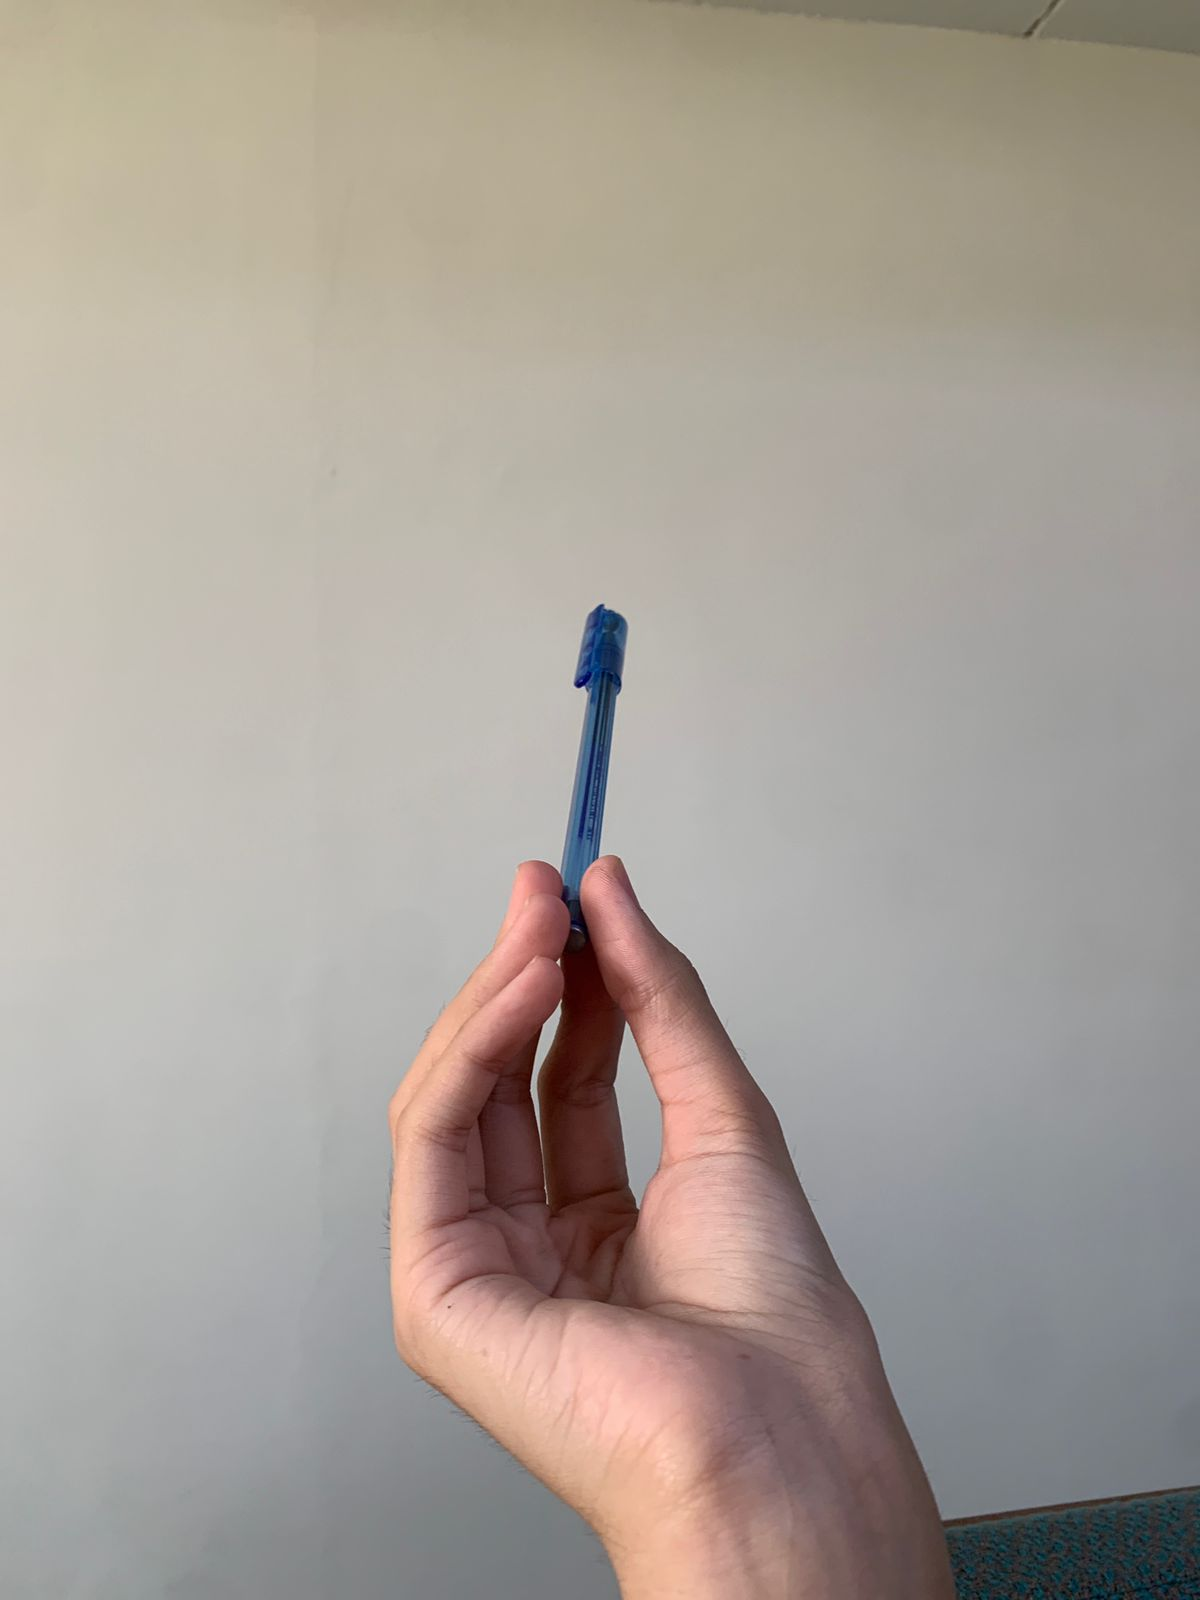pen: (504, 556, 671, 1032)
